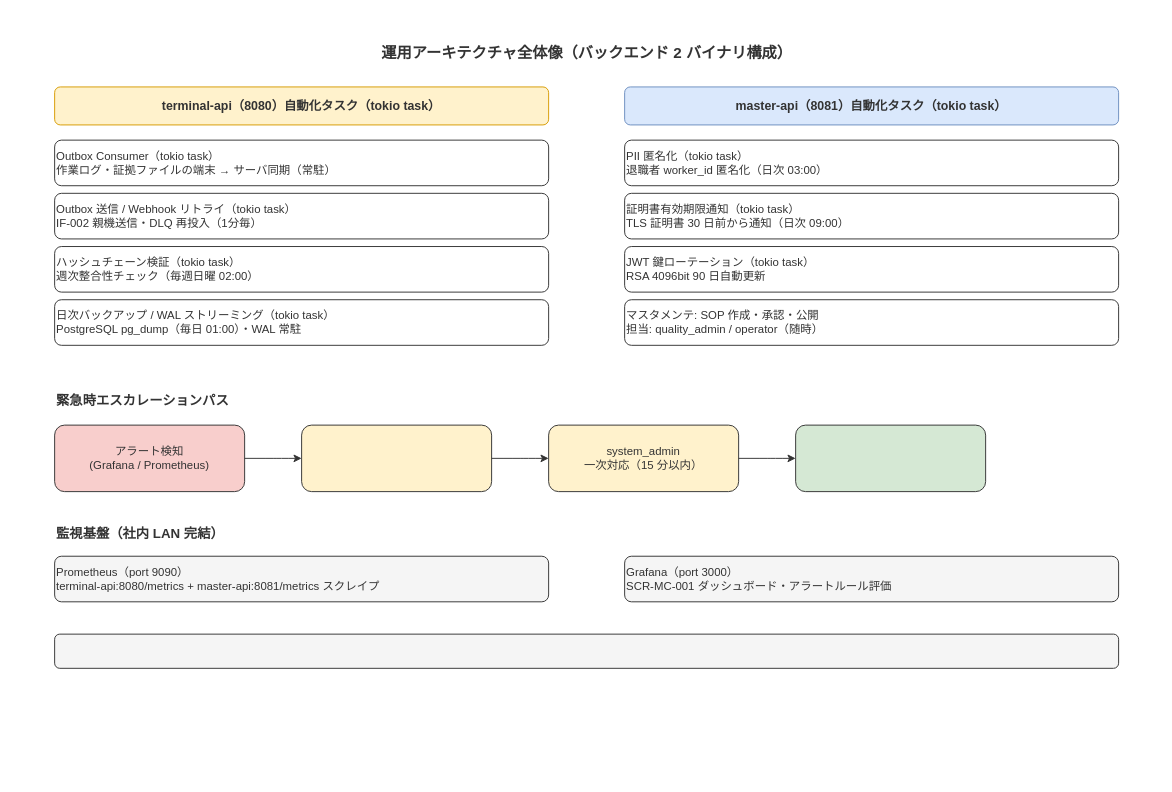
This 1172x792 diagram has some shape labels left out. Here are the shapes that lost their labels. From the top down, the centre of each, then its label:
At (x=396, y=458): "現場担当 口頭 / 内線 通報".
At (x=890, y=458): "復旧・根本原因分析 → ポストモーテム".
At (x=586, y=650): "SLA: 可用性 99.5% / P95 レイテンシ 500ms / 2 バイナリ独立障害ドメイン（一方の障害が他方に影響しない設計）".
